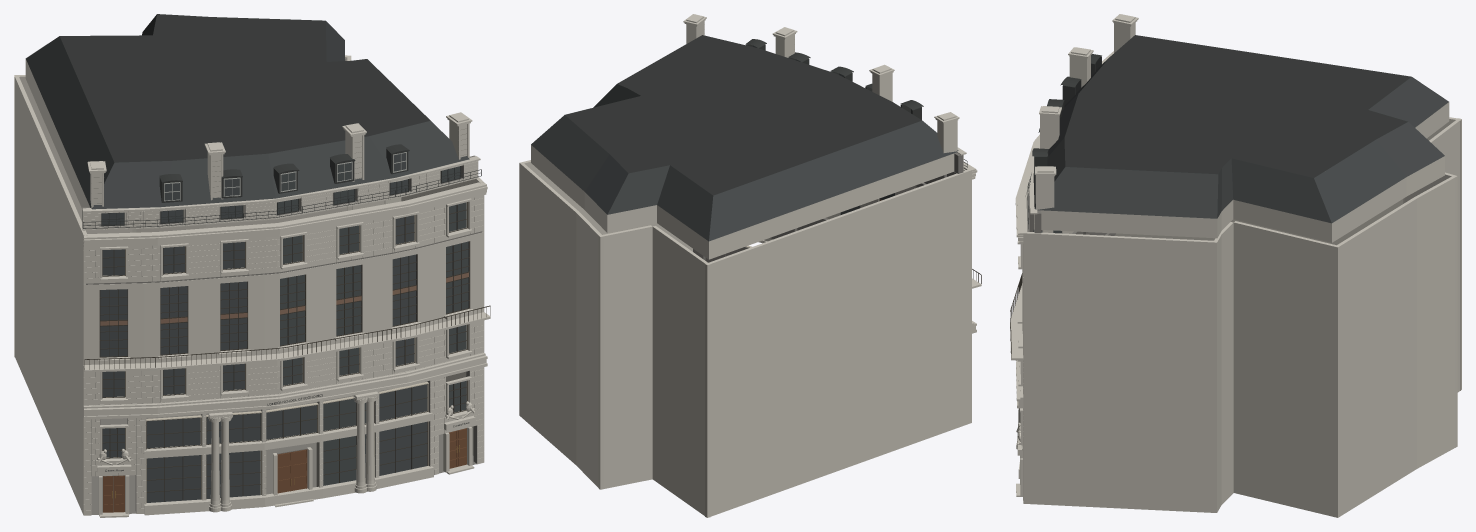
File: clm-exterior-553be7c2131a.glb
3 renders of one model, left to right at view 1: azimuth 30°, elevation 25°; view 2: azimuth 150°, elevation 25°; view 3: azimuth 270°, elevation 25°, orthographic. The views are drawn at different scales.
Visible parts, largest first — view 1: CLM.001; view 2: CLM.001; view 3: CLM.001.
Boxes of the visible parts, x1,y1,x2,y2 form: CLM.001: [14, 14, 490, 517]; CLM.001: [519, 14, 981, 517]; CLM.001: [1010, 14, 1461, 517].
Bounding box in the file's own units: 33.24 × 28.79 × 34.59.
